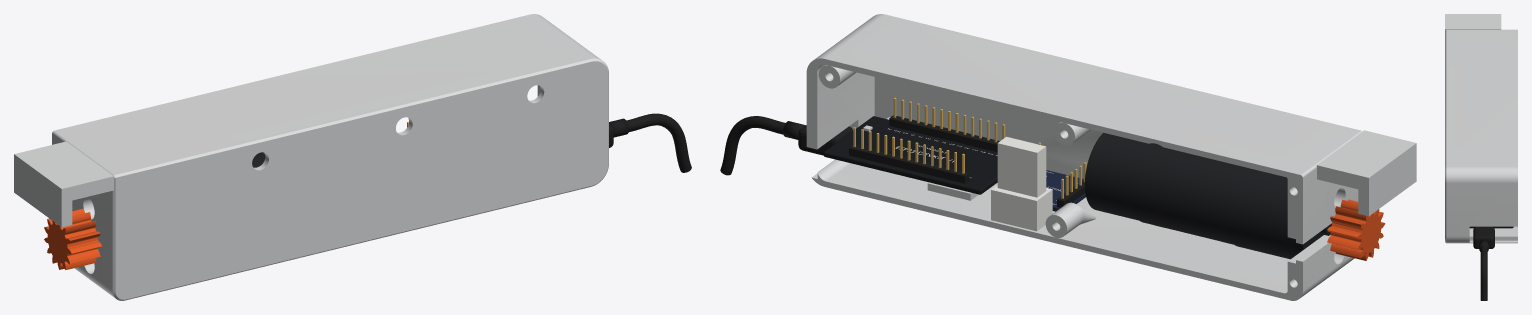
Rendered from fenster_open.glb.
3 views of the same model, side by side, from view 1: azimuth 30°, elevation 25°; view 2: azimuth 150°, elevation 25°; view 3: azimuth 270°, elevation 25° (orthographic). The views are drawn at different scales.
Visible parts, largest first — view 1: tub_nohook, pinion, c; view 2: tub_nohook, motor, Cube.001, rail, pinion, Cube.018, Cube.002, c, Cube.036, Cube; view 3: tub_nohook, c, Cube, Cylinder, Cube.001.
Part boxes in pixels (left/top/right/bottom): tub_nohook: left=14, top=14, right=608, bottom=300; pinion: left=44, top=208, right=101, bottom=269; c: left=626, top=113, right=691, bottom=172; tub_nohook: left=806, top=14, right=1416, bottom=300; motor: left=1084, top=132, right=1331, bottom=259; Cube.001: left=824, top=116, right=997, bottom=194; rail: left=991, top=136, right=1052, bottom=231; pinion: left=1327, top=199, right=1385, bottom=260; Cube.018: left=849, top=145, right=969, bottom=183; Cube.002: left=889, top=115, right=999, bottom=152; c: left=720, top=116, right=785, bottom=175; Cube.036: left=1046, top=170, right=1085, bottom=211; Cube: left=798, top=125, right=852, bottom=155; tub_nohook: left=1445, top=14, right=1517, bottom=243; c: left=1480, top=246, right=1487, bottom=300; Cube: left=1473, top=226, right=1494, bottom=248; Cylinder: left=1479, top=239, right=1488, bottom=251; Cube.001: left=1469, top=226, right=1513, bottom=228.
Size of the model in its own units: 0.2166 by 0.0521 by 0.035.
